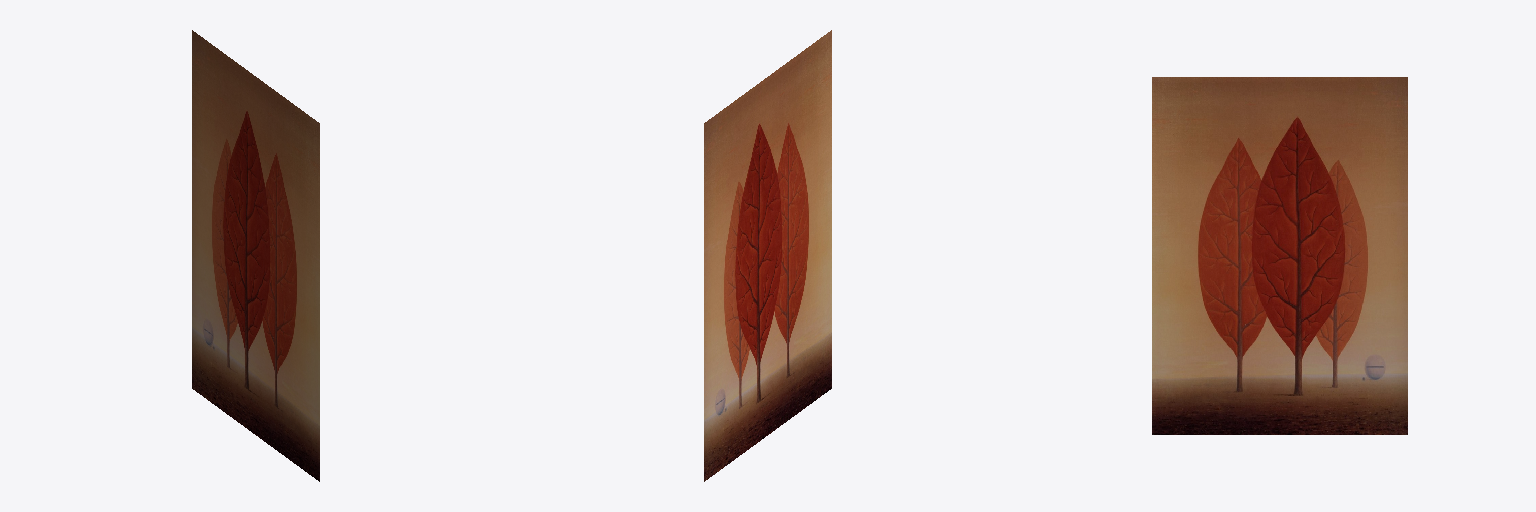
3 renders of one model, left to right at view 1: azimuth 30°, elevation 25°; view 2: azimuth 150°, elevation 25°; view 3: azimuth 270°, elevation 25°, orthographic.
Visible parts, largest first — view 1: Plane.1; view 2: Plane.1; view 3: Plane.1.
Boxes of the visible parts, x1=… form: Plane.1: x1=192, y1=30, x2=319, y2=481; Plane.1: x1=704, y1=30, x2=831, y2=481; Plane.1: x1=1152, y1=77, x2=1407, y2=434.
Size of the model in its own units: 0 by 49.6 by 32.
1 materials, 1 textured.